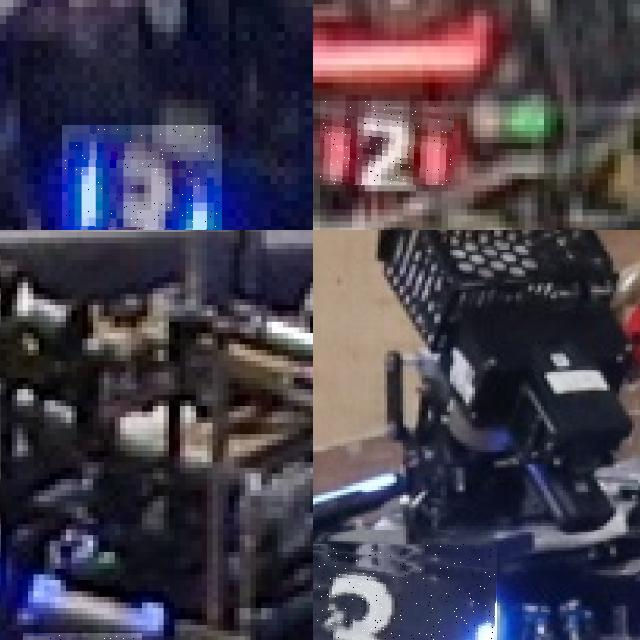B3: (313, 544, 497, 640), (62, 124, 222, 230)
R2: (320, 101, 454, 185)
